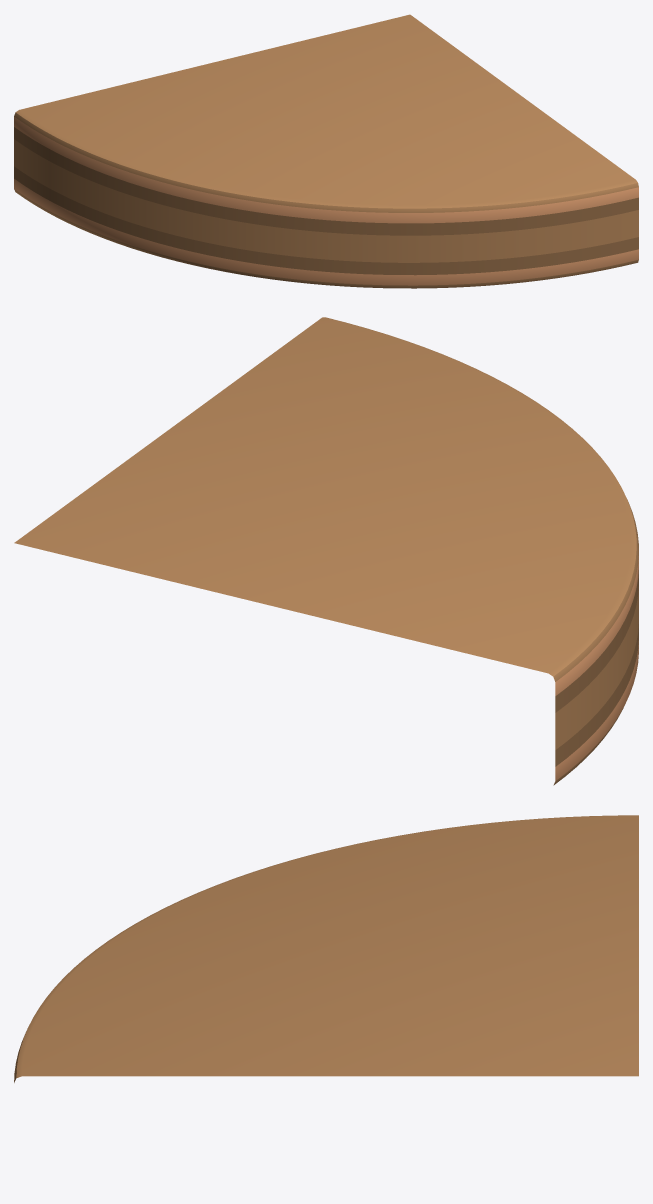
File: platform_dirt_corner_round5.gltf
3 renders of one model, top to bottom at view 1: azimuth 30°, elevation 25°; view 2: azimuth 150°, elevation 25°; view 3: azimuth 270°, elevation 25°, orthographic. The views are drawn at different scales.
Parts seen in each view (by area): view 1: Cube_Dirt_Corner_Round5; view 2: Cube_Dirt_Corner_Round5; view 3: Cube_Dirt_Corner_Round5.
Boxes of the visible parts, x1,y1,x2,y2 form: Cube_Dirt_Corner_Round5: (14,14,638,288); Cube_Dirt_Corner_Round5: (14,317,638,785); Cube_Dirt_Corner_Round5: (14,815,638,1082).
Size of the model in its own units: 10 by 2 by 10.
